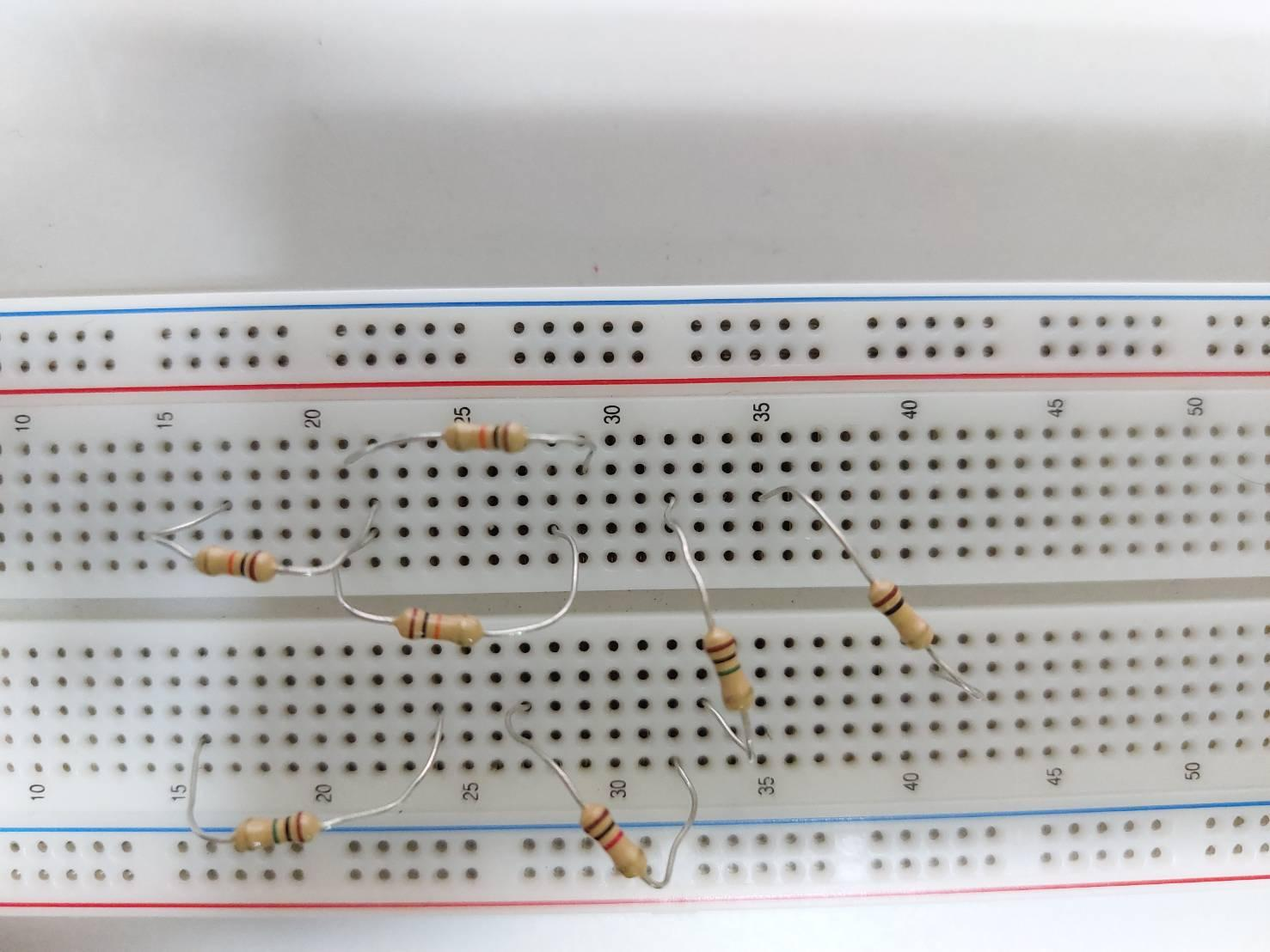resistor: (863, 579, 937, 649), (702, 626, 757, 714), (579, 806, 649, 875), (230, 811, 318, 855), (391, 604, 483, 645), (194, 544, 279, 585), (443, 420, 529, 456)
